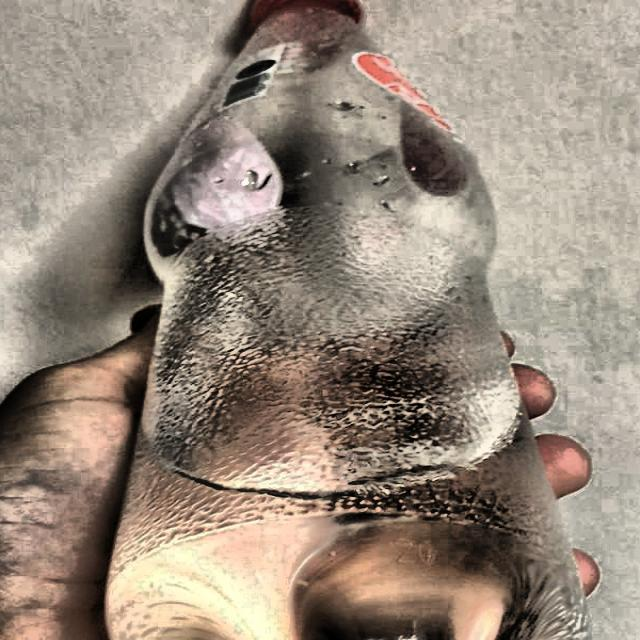plastic: (96, 0, 593, 640)
